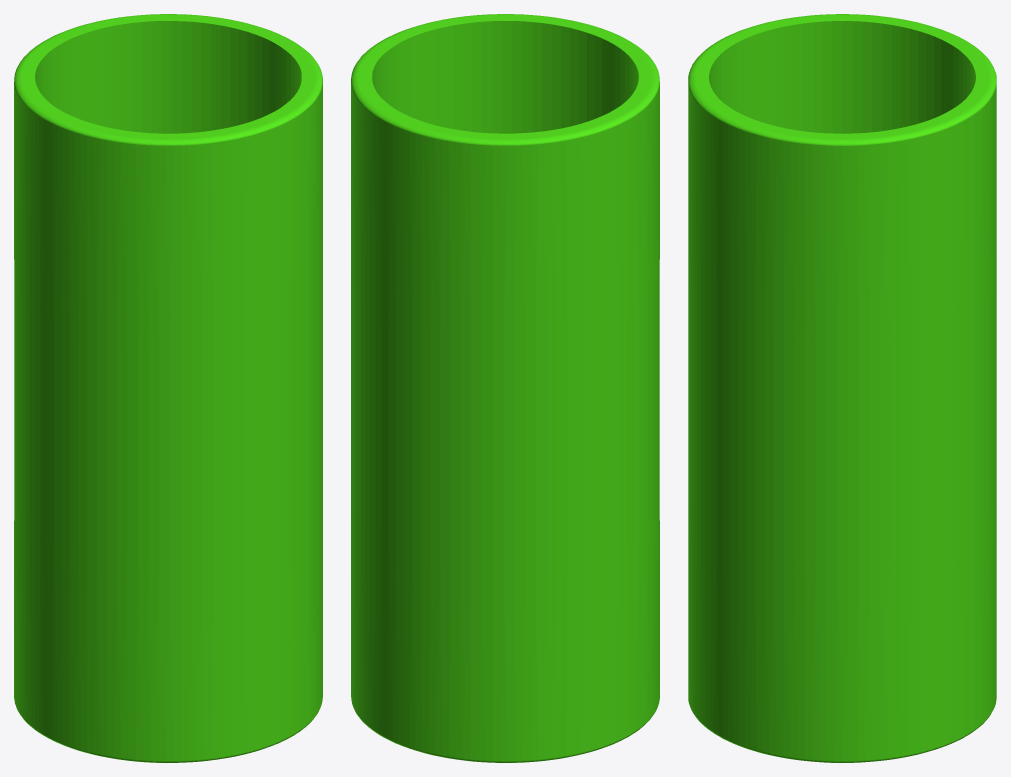
File: habillage_produit_05.glb
The picture shows the model from 3 angles, left to right: view 1: azimuth 30°, elevation 25°; view 2: azimuth 150°, elevation 25°; view 3: azimuth 270°, elevation 25°; orthographic projection.
Visible parts, largest first — view 1: bouteille prototype V3 habillage; view 2: bouteille prototype V3 habillage; view 3: bouteille prototype V3 habillage.
Part boxes in pixels (x1,y1,x2,y2): bouteille prototype V3 habillage: [14, 14, 322, 762]; bouteille prototype V3 habillage: [351, 14, 659, 762]; bouteille prototype V3 habillage: [688, 14, 996, 762].
Bounding box in the file's own units: 80.5 × 179 × 80.5.
